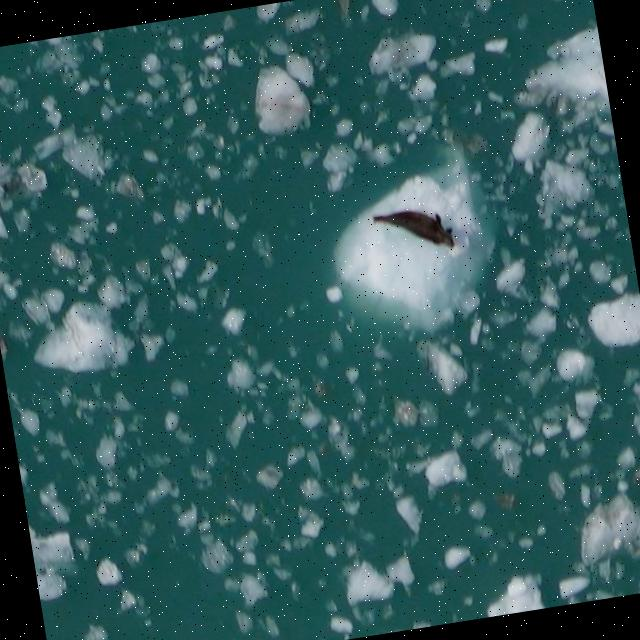seal: (375, 210, 457, 251)
